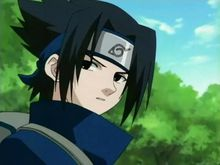sasuke: (43, 27, 137, 119)
